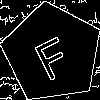F: (27, 28, 75, 82)
